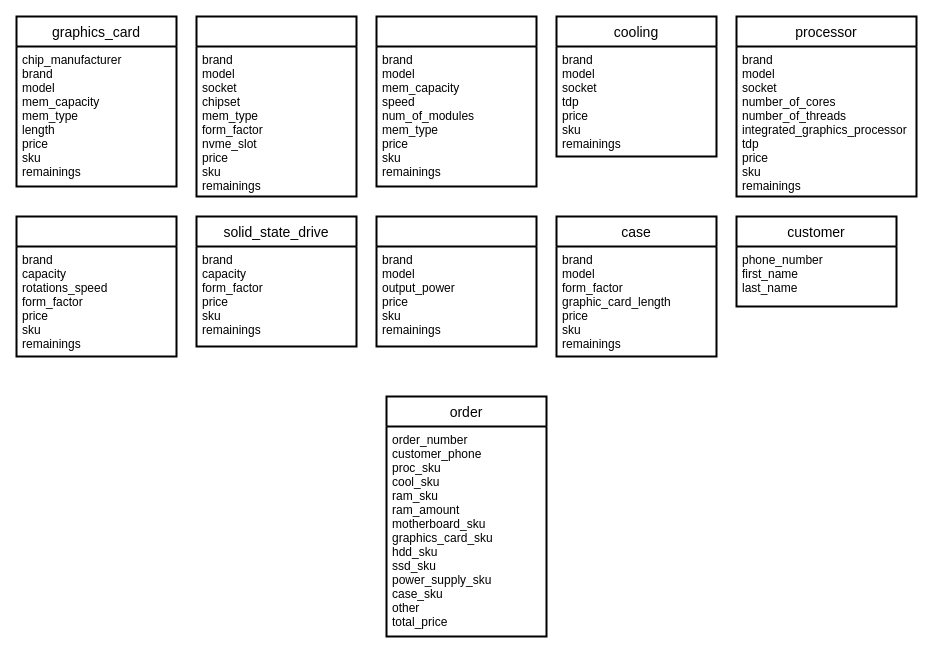
Image size: 933x653. Some labels were removed from this diagram. Each missing label, with the box of its shape:
hard_disk_drive: (15, 215, 177, 357)
motherboard: (195, 15, 357, 197)
power_supply: (375, 215, 537, 347)
ram: (375, 15, 537, 187)
